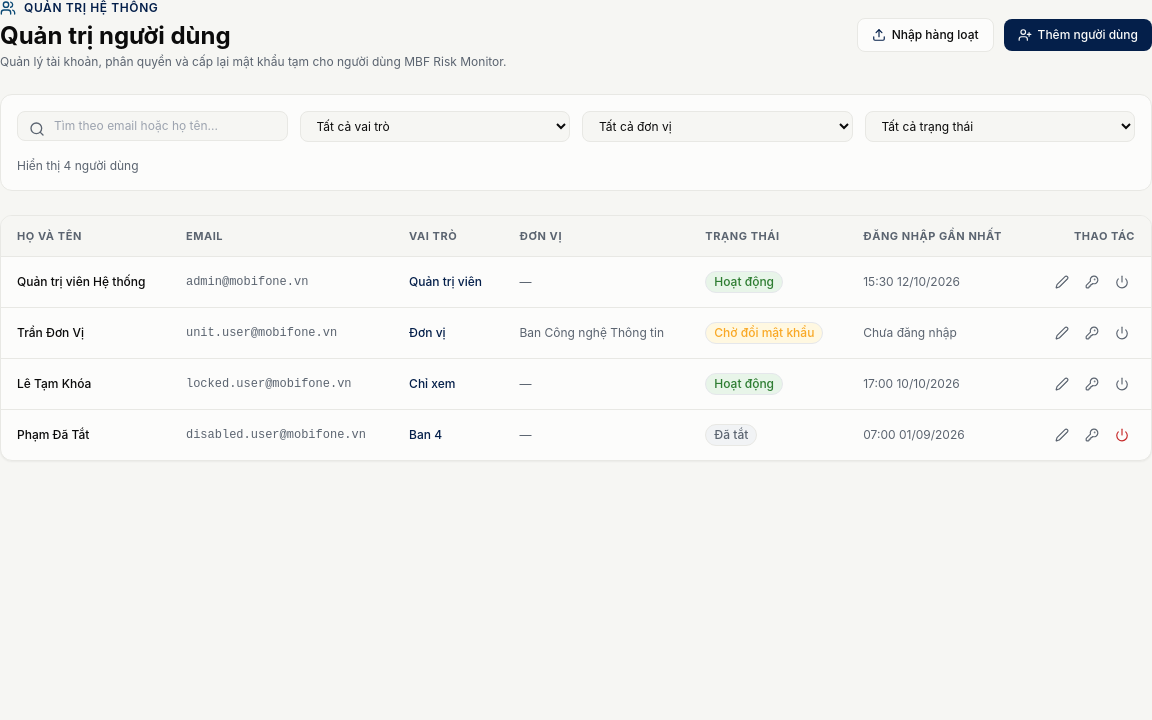
Test: UsersView › opens and closes CreateUserDialog when button is clicked
What coordinates should you click on to do the following:
click the button "Thêm người dùng"
I would click on:
 (1078, 35)
Its box is [1004,19,1151,51].
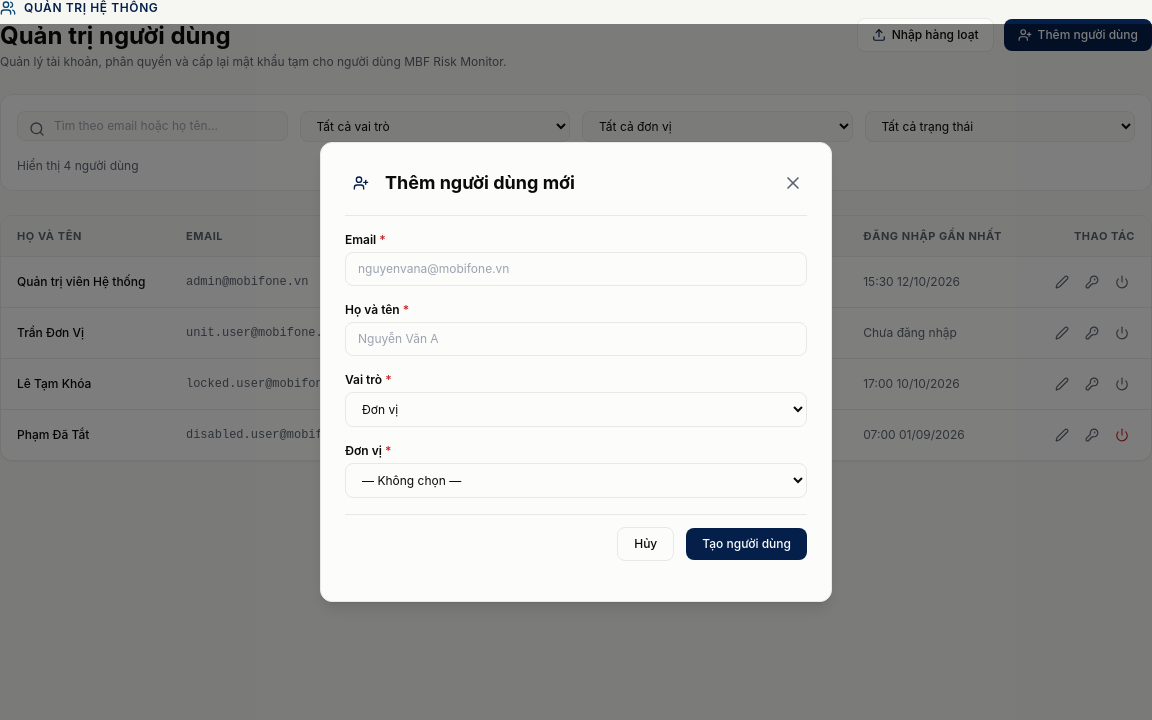
Expected: the dialog is shown
Expected: the heading "Thêm người dùng mới" is shown, [385,169,575,197]
